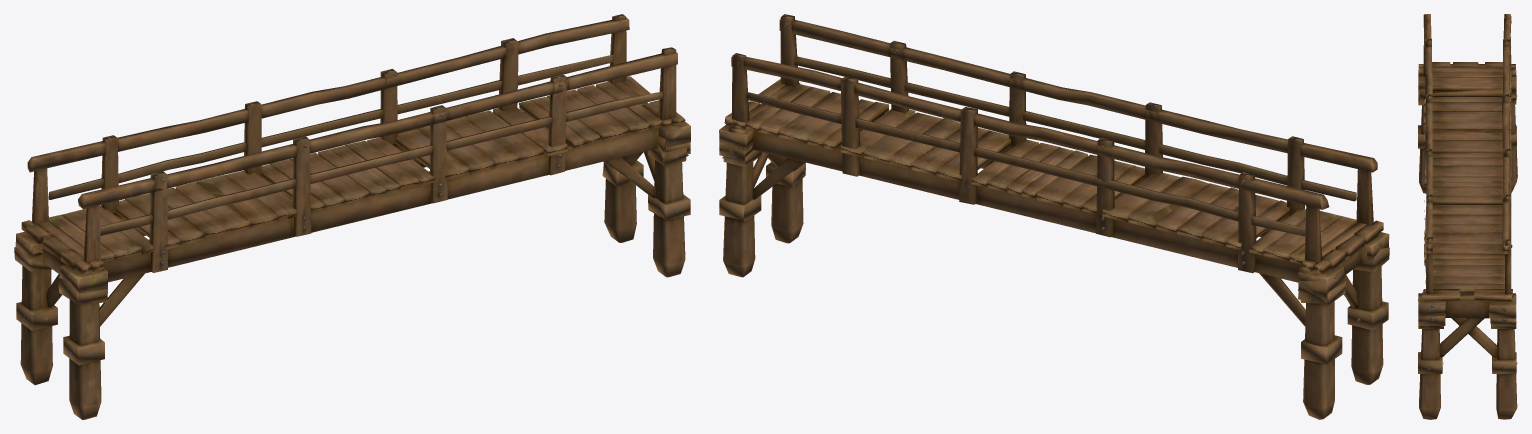
File: footbridge.glb
3 renders of one model, left to right at view 1: azimuth 30°, elevation 25°; view 2: azimuth 150°, elevation 25°; view 3: azimuth 270°, elevation 25°, orthographic. The views are drawn at different scales.
Visible parts, largest first — view 1: geometry_0; view 2: geometry_0; view 3: geometry_0.
Part boxes in pixels (x1,y1,x2,y2): geometry_0: (14,14,690,419); geometry_0: (719,14,1389,419); geometry_0: (1418,14,1517,419).
Size of the model in its own units: 0.9497 by 0.3379 by 0.1685.
1 material, 1 textured.
